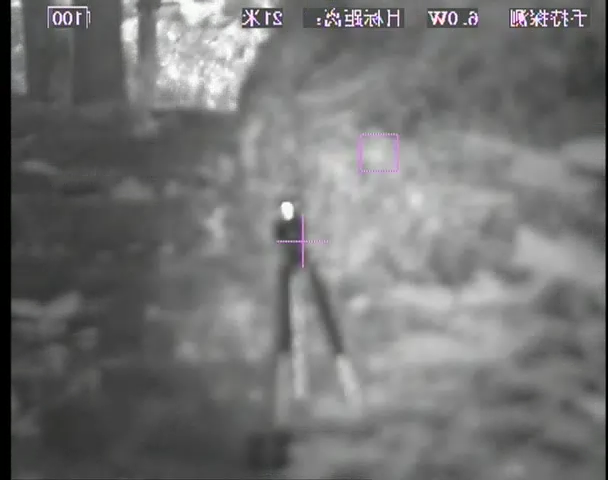my: (275, 201, 298, 223)
